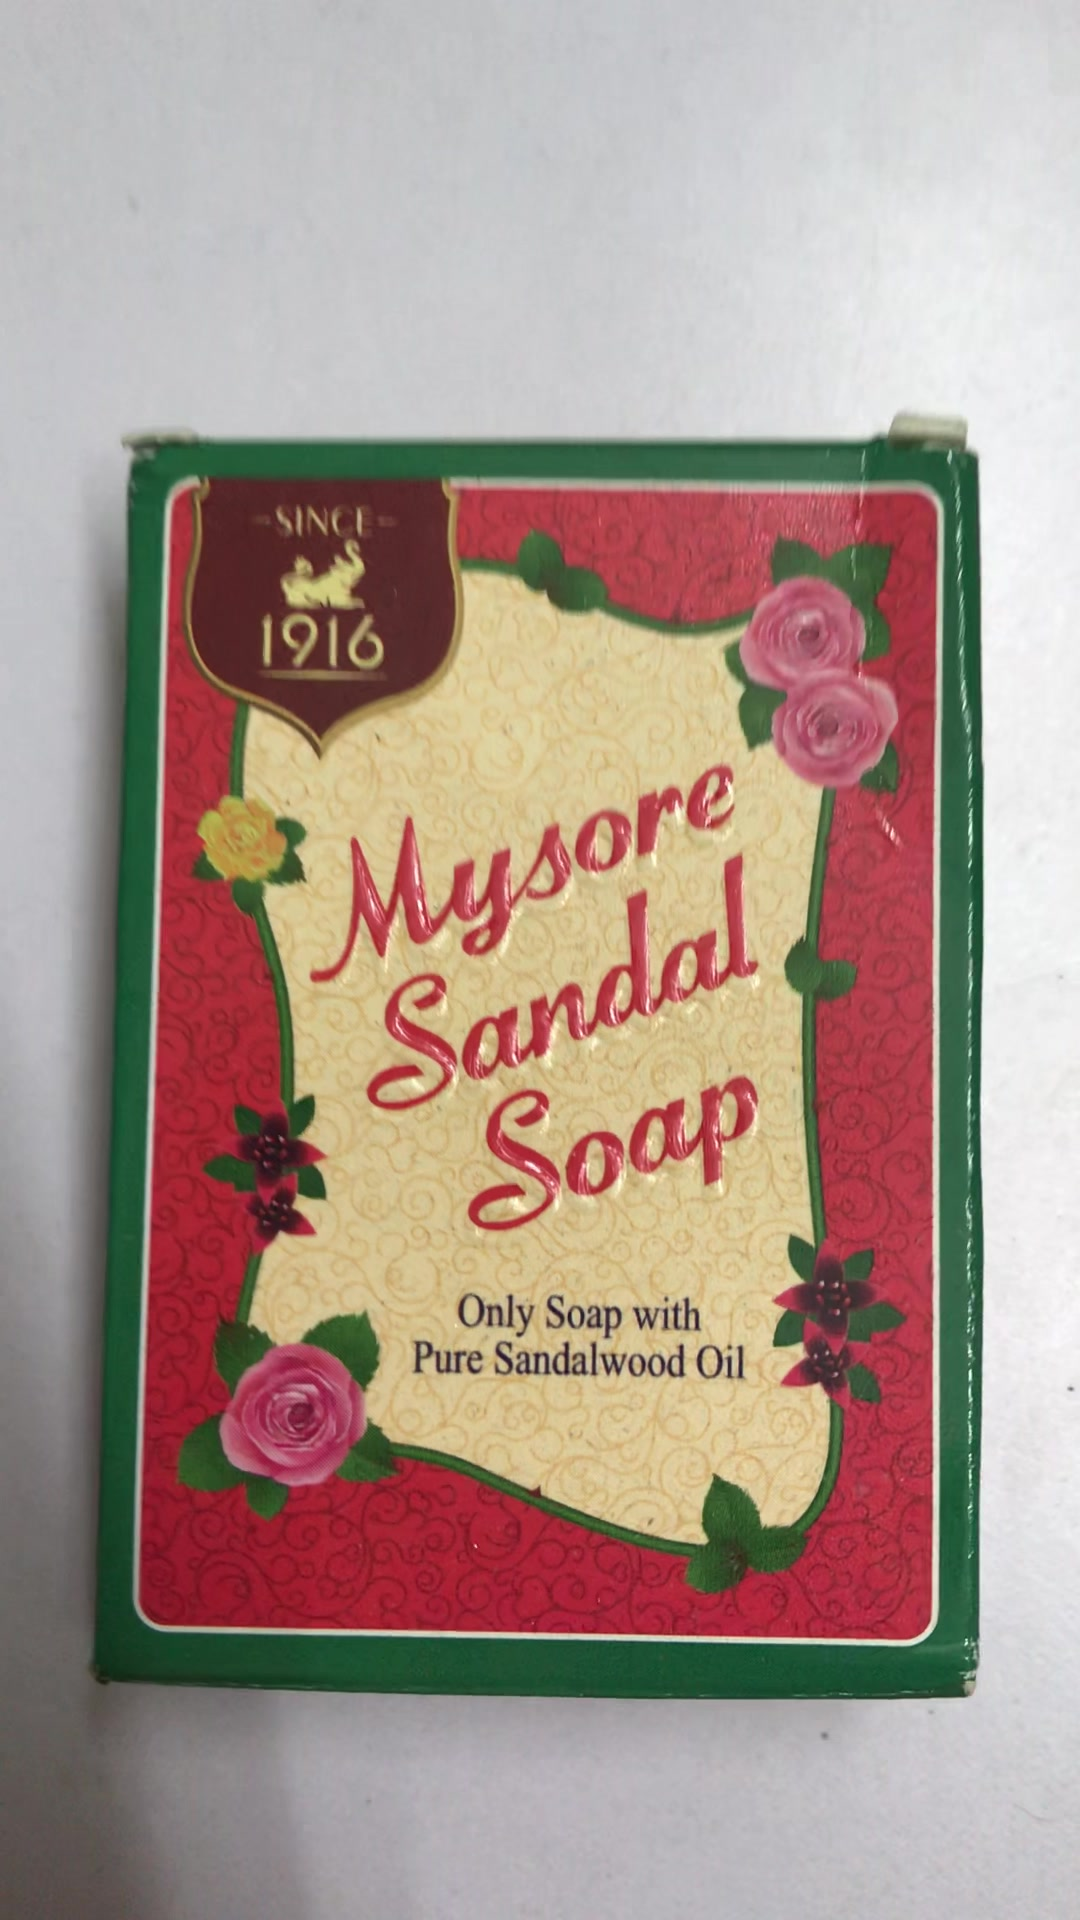mysore sandal soap: (117, 421, 984, 1698)
